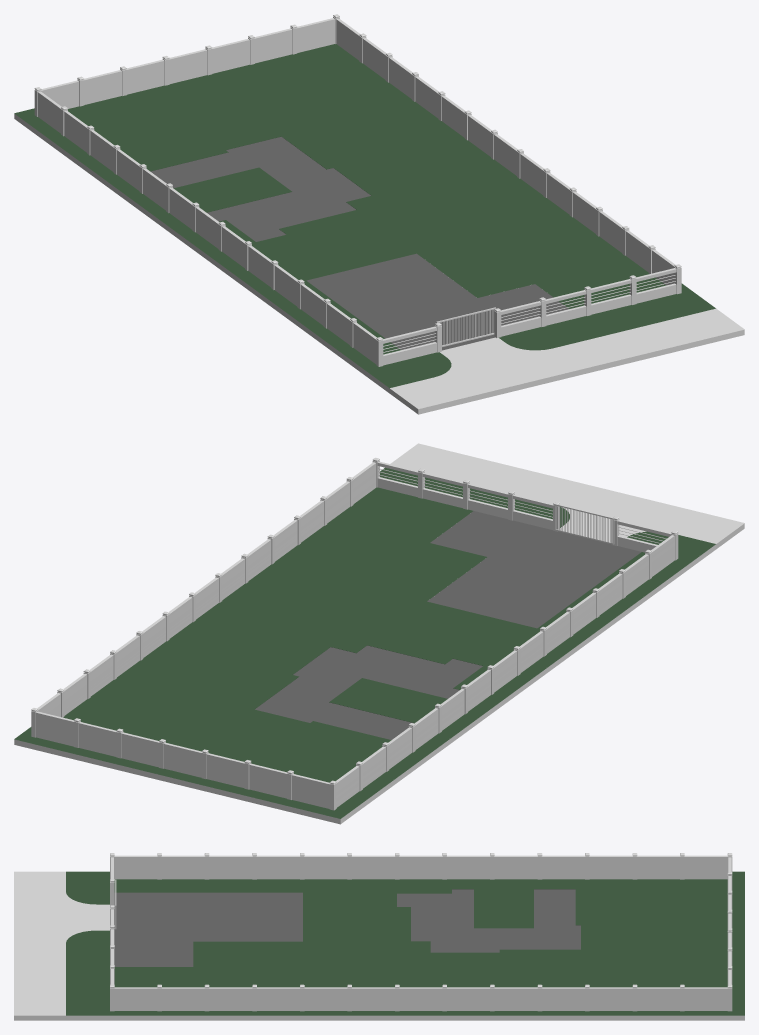
File: house_Opt_site.glb
The picture shows the model from 3 angles, top to bottom: view 1: azimuth 30°, elevation 25°; view 2: azimuth 150°, elevation 25°; view 3: azimuth 270°, elevation 25°; orthographic projection. The views are drawn at different scales.
Visible parts, largest first — view 1: Site-Grass, Plaster(1).002, Default material, Default material.001, Plaster(2).002, Earth, Frame, Default; view 2: Site-Grass, Plaster(1).002, Default material, Default material.001, Plaster(2).002, Earth, Frame, Default; view 3: Site-Grass, Plaster(1).002, Default material, Default material.001, Plaster(2).002, Earth.
Part boxes in pixels (x1,y1,x2,y2): Site-Grass: [14, 44, 715, 388]; Plaster(1).002: [38, 18, 676, 365]; Default material: [150, 136, 568, 350]; Default material.001: [390, 308, 744, 409]; Plaster(2).002: [34, 14, 681, 366]; Earth: [14, 114, 744, 414]; Frame: [383, 275, 675, 352]; Default: [441, 309, 493, 344]; Site-Grass: [14, 467, 715, 818]; Plaster(1).002: [36, 461, 674, 808]; Default material: [255, 511, 641, 739]; Default material.001: [390, 443, 744, 543]; Plaster(2).002: [31, 457, 678, 810]; Earth: [14, 523, 744, 824]; Frame: [378, 468, 666, 544]; Default: [556, 506, 611, 542]; Site-Grass: [66, 871, 744, 1015]; Plaster(1).002: [111, 855, 731, 1010]; Default material: [114, 889, 580, 966]; Default material.001: [14, 871, 109, 1015]; Plaster(2).002: [110, 853, 732, 1011]; Earth: [14, 1015, 744, 1020].
Size of the model in its own units: 22.14 by 2.16 by 47.46.
